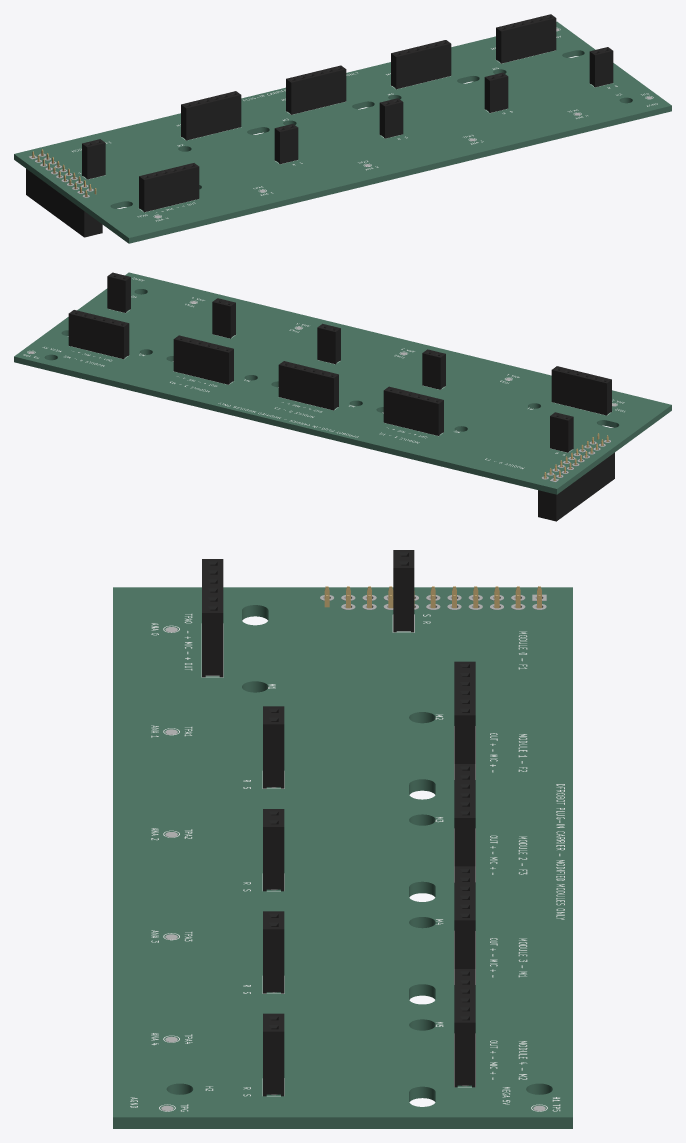
File: analyser-carrier.glb
3 views of the same model, one above another, from view 1: azimuth 30°, elevation 25°; view 2: azimuth 150°, elevation 25°; view 3: azimuth 270°, elevation 25° (orthographic). The views are drawn at different scales.
Parts seen in each view (by area): view 1: =>[0:1:1:8], JA1_VISUAL, DFR_M3_input_VISUAL, DFR_M5_input_VISUAL, DFR_M2_input_VISUAL, DFR_M1_input_VISUAL, DFR_M4_input_VISUAL, DFR_M4_control_VISUAL, DFR_M2_control_VISUAL, DFR_M5_control_VISUAL, DFR_M3_control_VISUAL, DFR_M1_control_VISUAL (+2 smaller); view 2: =>[0:1:1:8], JA1_VISUAL, DFR_M5_input_VISUAL, DFR_M4_input_VISUAL, DFR_M3_input_VISUAL, DFR_M1_input_VISUAL, DFR_M2_input_VISUAL, =>[0:1:1:6], DFR_M4_control_VISUAL, DFR_M2_control_VISUAL, DFR_M1_control_VISUAL, DFR_M3_control_VISUAL (+2 smaller); view 3: =>[0:1:1:8], =>[0:1:1:6], DFR_M1_input_VISUAL, DFR_M5_input_VISUAL, DFR_M4_input_VISUAL, DFR_M2_input_VISUAL, DFR_M3_input_VISUAL, DFR_M5_control_VISUAL, DFR_M4_control_VISUAL, DFR_M2_control_VISUAL, DFR_M1_control_VISUAL, DFR_M3_control_VISUAL (+2 smaller).
Part boxes in pixels (x1,y1,x2,y2): =>[0:1:1:8]: (14,21,671,243); JA1_VISUAL: (26,149,102,237); DFR_M3_input_VISUAL: (286,65,346,114); DFR_M5_input_VISUAL: (496,14,556,63); DFR_M2_input_VISUAL: (181,91,241,140); DFR_M1_input_VISUAL: (139,163,199,212); DFR_M4_input_VISUAL: (391,40,451,89); DFR_M4_control_VISUAL: (484,72,508,112); DFR_M2_control_VISUAL: (274,124,298,164); DFR_M5_control_VISUAL: (589,47,613,87); DFR_M3_control_VISUAL: (379,98,403,138); DFR_M1_control_VISUAL: (82,139,105,179); =>[0:1:1:8]: (14,272,671,494); JA1_VISUAL: (538,433,614,521); DFR_M5_input_VISUAL: (68,310,129,359); DFR_M4_input_VISUAL: (173,335,233,384); DFR_M3_input_VISUAL: (278,361,338,410); DFR_M1_input_VISUAL: (551,366,611,415); DFR_M2_input_VISUAL: (383,386,443,435); =>[0:1:1:6]: (23,277,624,468); DFR_M4_control_VISUAL: (212,298,235,338); DFR_M2_control_VISUAL: (422,349,445,389); DFR_M1_control_VISUAL: (550,412,573,452); DFR_M3_control_VISUAL: (317,323,340,364); =>[0:1:1:8]: (113,587,572,1128); =>[0:1:1:6]: (130,614,564,1111); DFR_M1_input_VISUAL: (202,559,223,677); DFR_M5_input_VISUAL: (454,969,475,1087); DFR_M4_input_VISUAL: (454,866,475,968); DFR_M2_input_VISUAL: (454,661,475,763); DFR_M3_input_VISUAL: (454,764,475,866); DFR_M5_control_VISUAL: (263,1013,284,1096); DFR_M4_control_VISUAL: (263,911,284,993); DFR_M2_control_VISUAL: (263,706,284,788); DFR_M1_control_VISUAL: (393,550,414,632); DFR_M3_control_VISUAL: (263,809,284,891).
Size of the model in its own units: 0.15 by 0.0187 by 0.055.
